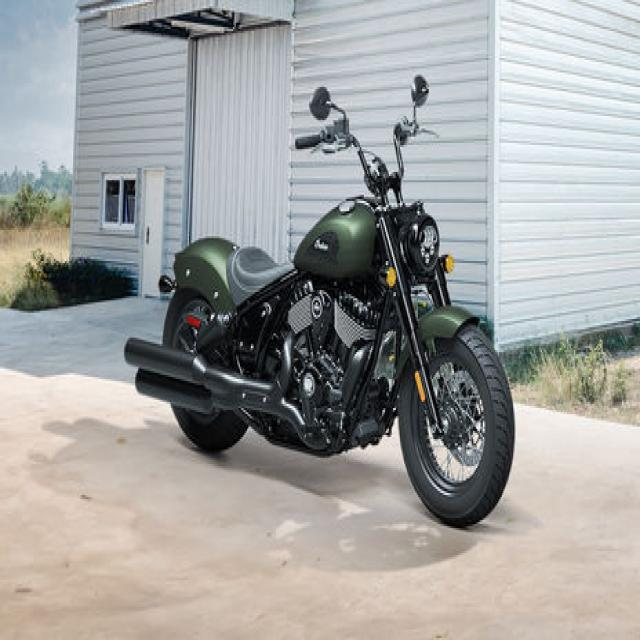motorcycle: (125, 75, 514, 527)
